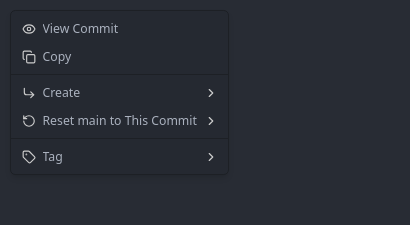
Test: GitHistoryContextMenu — Tag submenu › renders a separate submenu per tag when multiple tags exist
Hover over the menu item "Tag" at (120, 156), box 14,142 -> 225,170
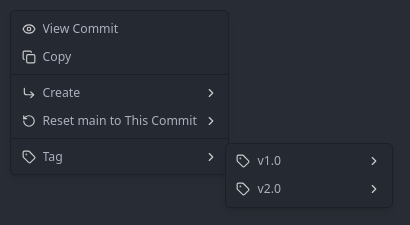
Check: the menu item "v1.0" is shown, box 229,147 -> 388,175
Check: the menu item "v2.0" is shown, box 229,175 -> 388,203
